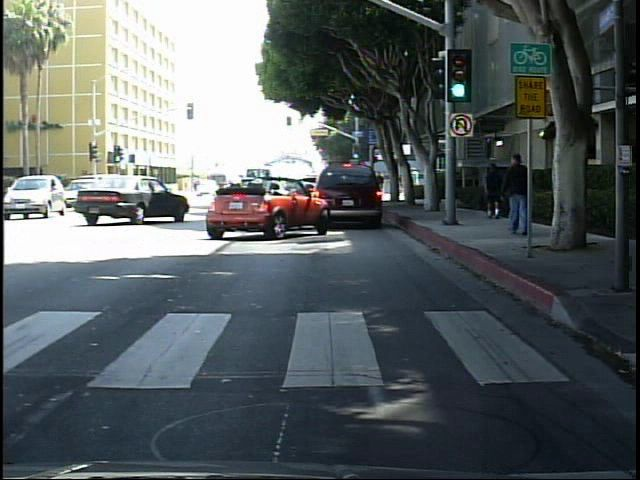person: (490, 134, 547, 253), (484, 157, 508, 222), (408, 165, 425, 200)
